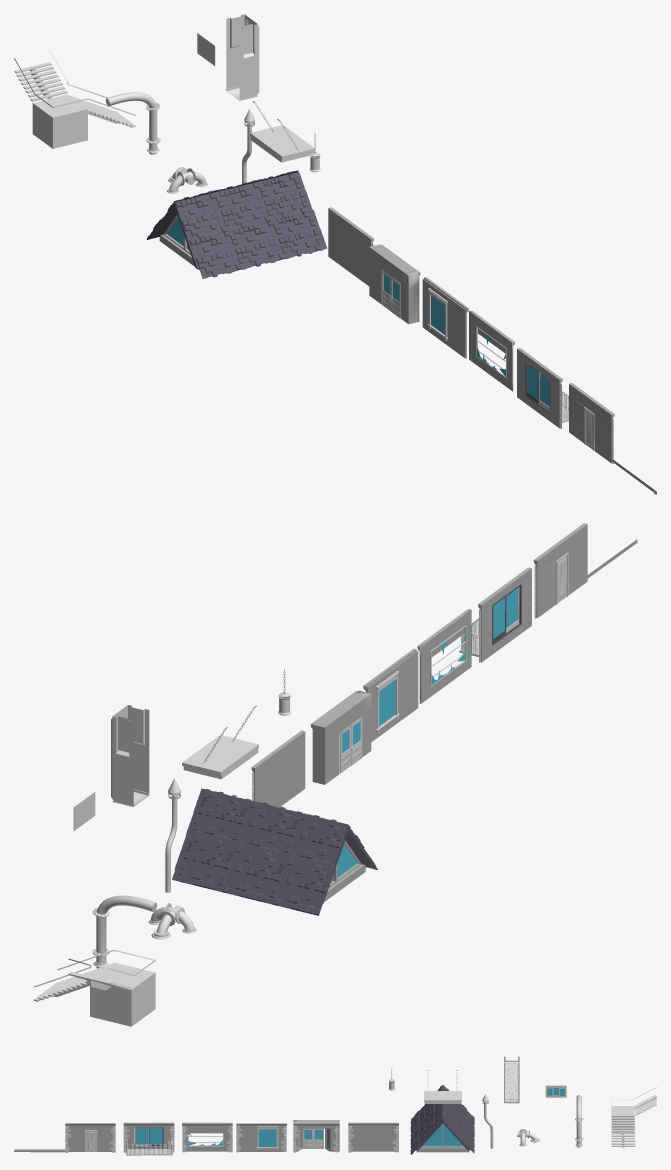
File: Modular.fbx
The picture shows the model from 3 angles, top to bottom: view 1: azimuth 30°, elevation 25°; view 2: azimuth 150°, elevation 25°; view 3: azimuth 270°, elevation 25°; orthographic projection. The views are drawn at different scales.
Parts seen in each view (by area): view 1: TILES, L STAIR, CONDITIONER, DOOR WALL, FULL WALL, WALL SMALL DOOR, SMALL WINDOW WALL, BASE, SLIDING WINDOW WALL, ROOF, BIG WINDOW WALL, Line010.002; view 2: TILES, L STAIR, CONDITIONER, DOOR WALL, FULL WALL, WALL SMALL DOOR, BASE, SMALL WINDOW WALL, SLIDING WINDOW WALL, BIG WINDOW WALL, ROOF, Line010.002; view 3: TILES, L STAIR, FULL WALL, ROOF, WALL SMALL DOOR, DOOR WALL, SMALL WINDOW WALL, BIG WINDOW WALL, SLIDING WINDOW WALL, BASE, BALCONY, SMALL WINDOW (+17 smaller).
Boxes of the visible parts, left/top/right/bottom form: TILES: left=146, top=170, right=326, bottom=278; L STAIR: left=14, top=49, right=135, bottom=148; CONDITIONER: left=226, top=14, right=257, bottom=100; DOOR WALL: left=369, top=244, right=418, bottom=324; FULL WALL: left=328, top=208, right=371, bottom=286; WALL SMALL DOOR: left=569, top=383, right=612, bottom=463; SMALL WINDOW WALL: left=422, top=278, right=466, bottom=358; BASE: left=250, top=125, right=314, bottom=162; SLIDING WINDOW WALL: left=517, top=348, right=560, bottom=428; ROOF: left=151, top=172, right=302, bottom=269; BIG WINDOW WALL: left=469, top=311, right=512, bottom=390; Line010.002: left=105, top=92, right=157, bottom=154; TILES: left=172, top=788, right=378, bottom=915; L STAIR: left=33, top=949, right=155, bottom=1026; CONDITIONER: left=112, top=705, right=149, bottom=806; DOOR WALL: left=312, top=690, right=371, bottom=784; FULL WALL: left=254, top=731, right=305, bottom=807; WALL SMALL DOOR: left=536, top=524, right=587, bottom=618; BASE: left=182, top=735, right=258, bottom=779; SMALL WINDOW WALL: left=366, top=650, right=418, bottom=741; SLIDING WINDOW WALL: left=480, top=568, right=531, bottom=662; BIG WINDOW WALL: left=420, top=609, right=471, bottom=703; ROOF: left=174, top=826, right=375, bottom=903; Line010.002: left=96, top=895, right=157, bottom=968; TILES: left=410, top=1085, right=474, bottom=1154; L STAIR: left=611, top=1087, right=656, bottom=1147; FULL WALL: left=348, top=1122, right=398, bottom=1151; ROOF: left=416, top=1086, right=470, bottom=1152; WALL SMALL DOOR: left=65, top=1123, right=115, bottom=1151; DOOR WALL: left=293, top=1120, right=339, bottom=1151; SMALL WINDOW WALL: left=238, top=1125, right=284, bottom=1151; BIG WINDOW WALL: left=182, top=1122, right=232, bottom=1151; SLIDING WINDOW WALL: left=124, top=1122, right=174, bottom=1151; BASE: left=424, top=1091, right=461, bottom=1103; BALCONY: left=126, top=1149, right=172, bottom=1155; SMALL WINDOW: left=259, top=1129, right=276, bottom=1146.
Size of the model in its own units: 1014 by 1160 by 6912.
